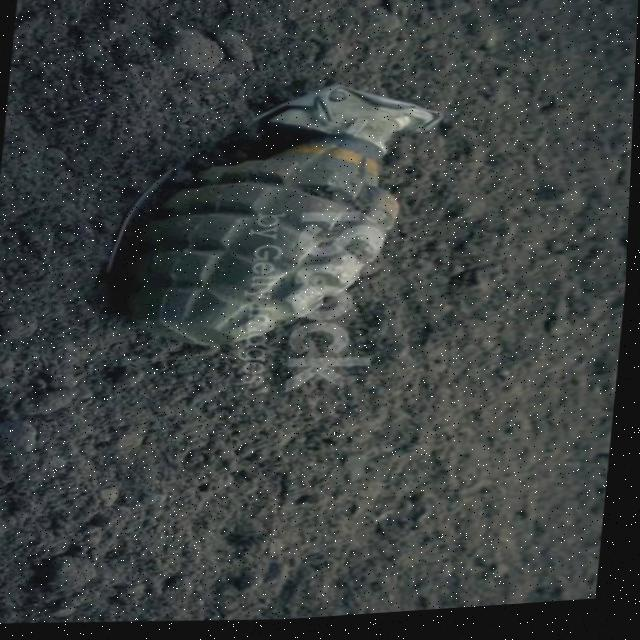grenade: (97, 70, 441, 369)
